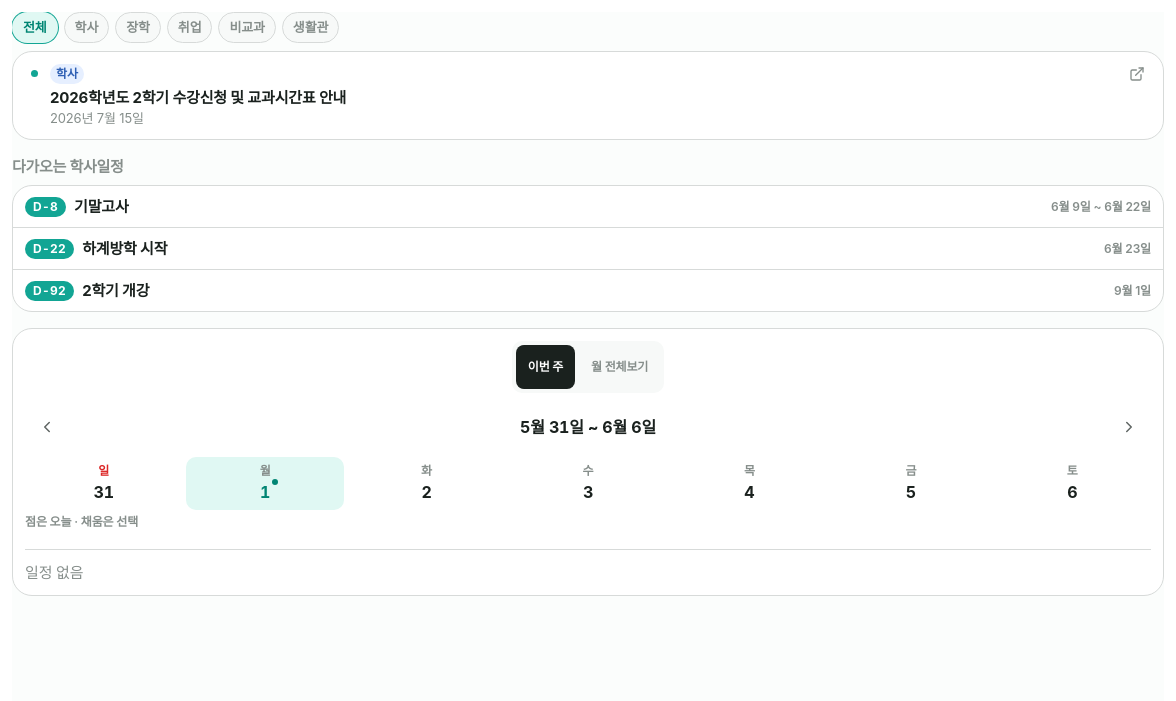
Test: AcademicNoticesTab — 다가오는 학사일정 리스트 › 일정 항목을 탭하면 캘린더가 그 날짜로 이동한다(월 전체보기 기준월이 바뀜)
This screenshot has width=1176, height=701.
Click the button with aria-label "2학기 개강 · 캘린더에서 보기": click(50, 291) 13,269 -> 1163,311
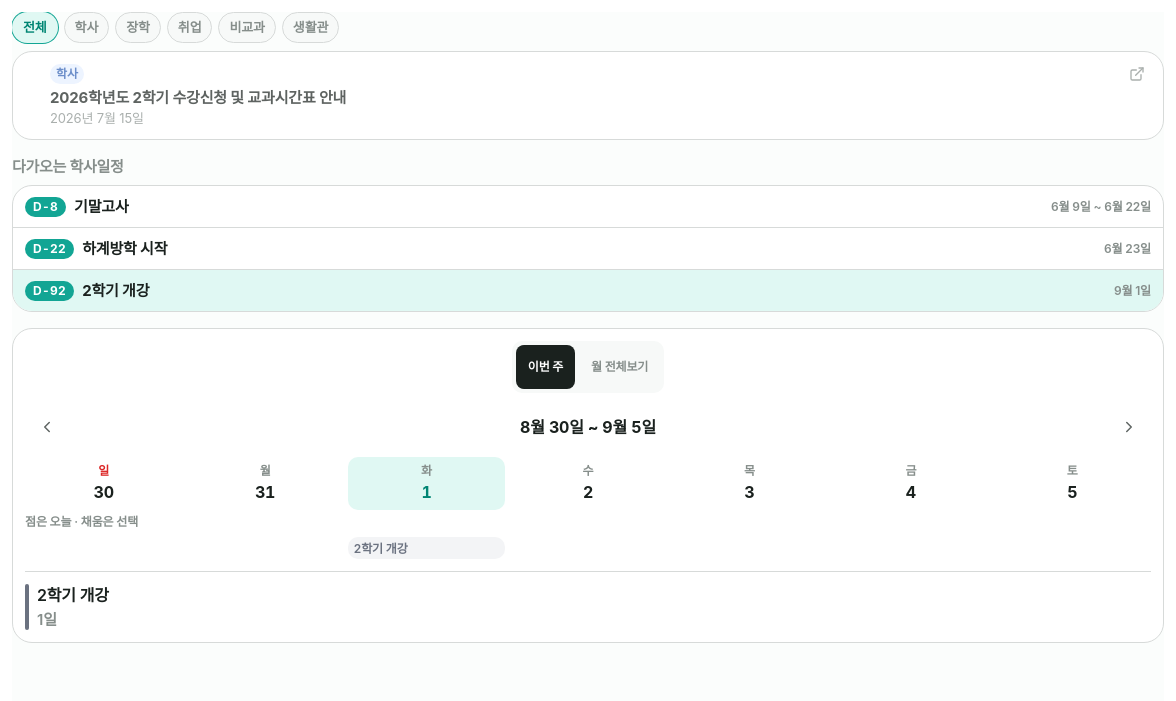
Click the tab "월 전체보기": click(620, 367) 579,345 -> 660,389
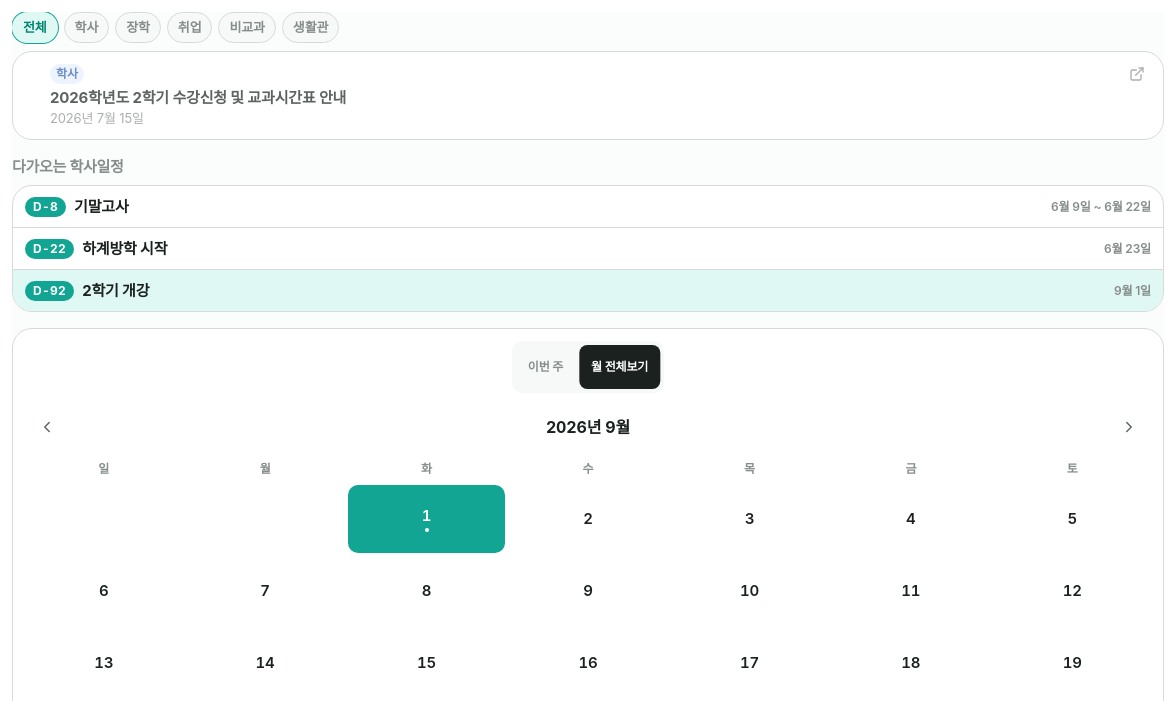
Check: the text "2026년 9월" is shown, box 546,416 -> 630,439
